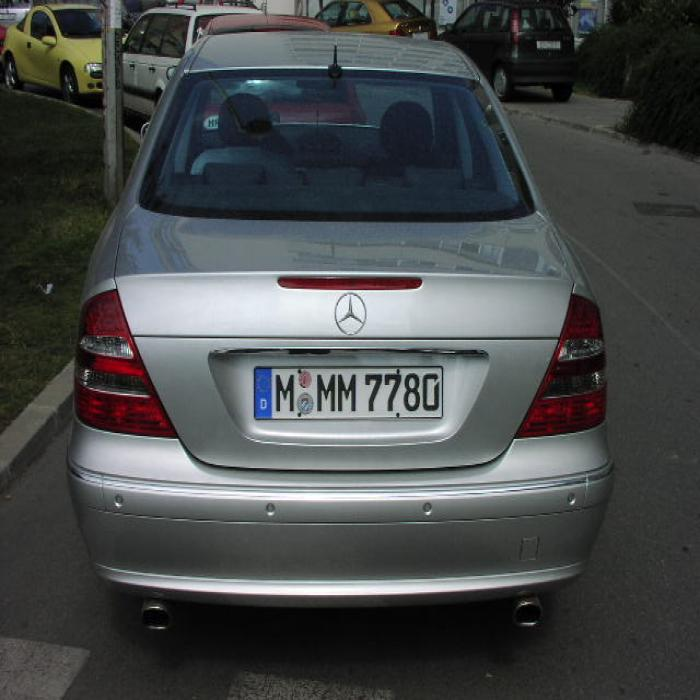number_plate: (253, 366, 442, 419)
